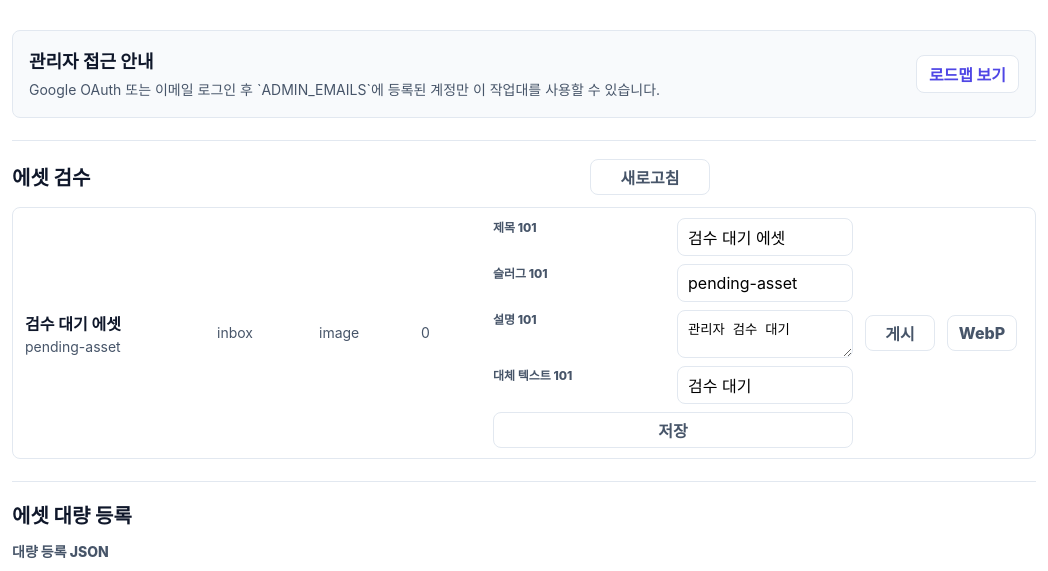
Test case: AdminDashboard › edits inbox asset metadata before publishing
Replace the text in the field labelled "제목 101" with "미니멀 대시보드 레퍼런스" at (765, 237), box left=677, top=218, right=853, bottom=256
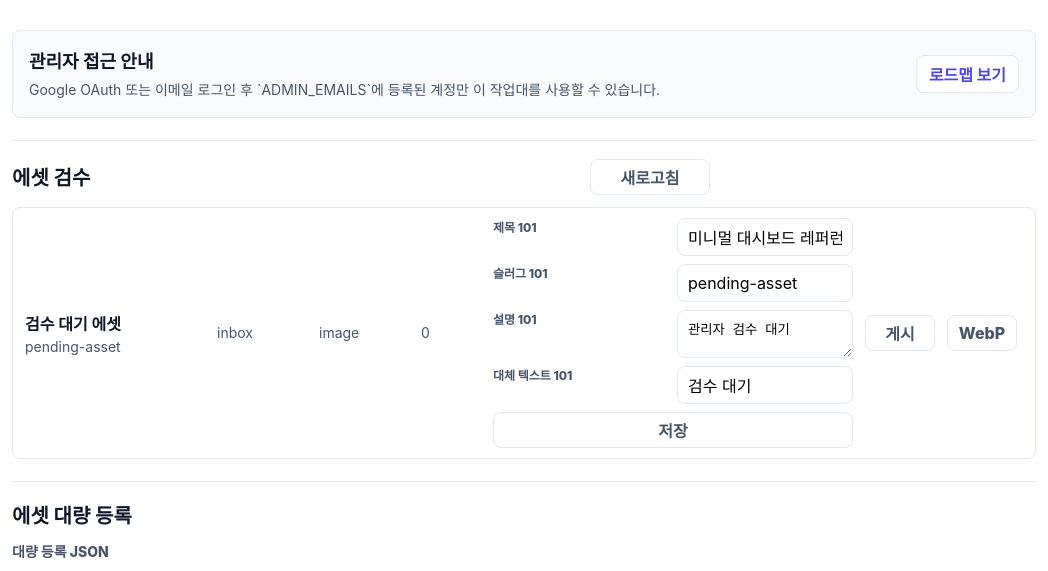
Replace the text in the field labelled "슬러그 101" with "minimal-dashboard-reference" at (765, 283), box left=677, top=264, right=853, bottom=302
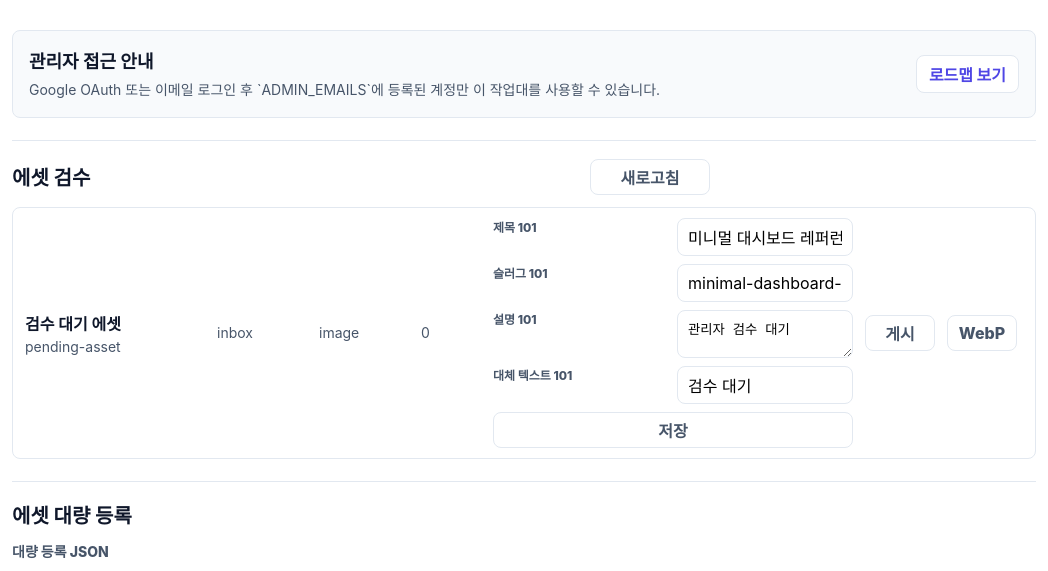
Replace the text in the text box labelled "설명 101" with "SaaS 관리자 화면에 쓰기 좋은 이미지" at (765, 334), box left=677, top=310, right=853, bottom=358
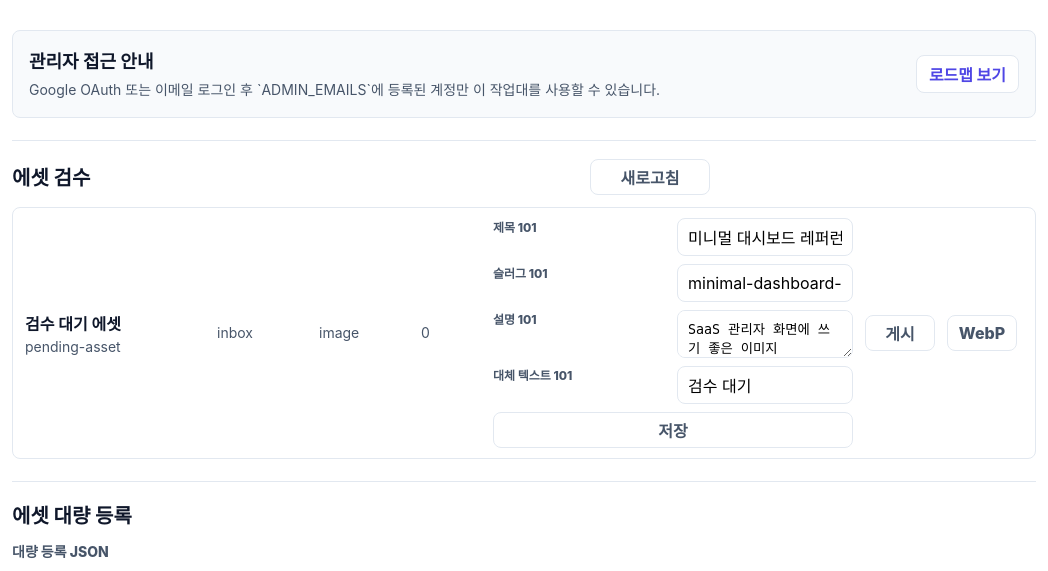
Replace the text in the field labelled "대체 텍스트 101" with "밝은 배경의 미니멀 대시보드 이미지" at (765, 385), box left=677, top=366, right=853, bottom=404
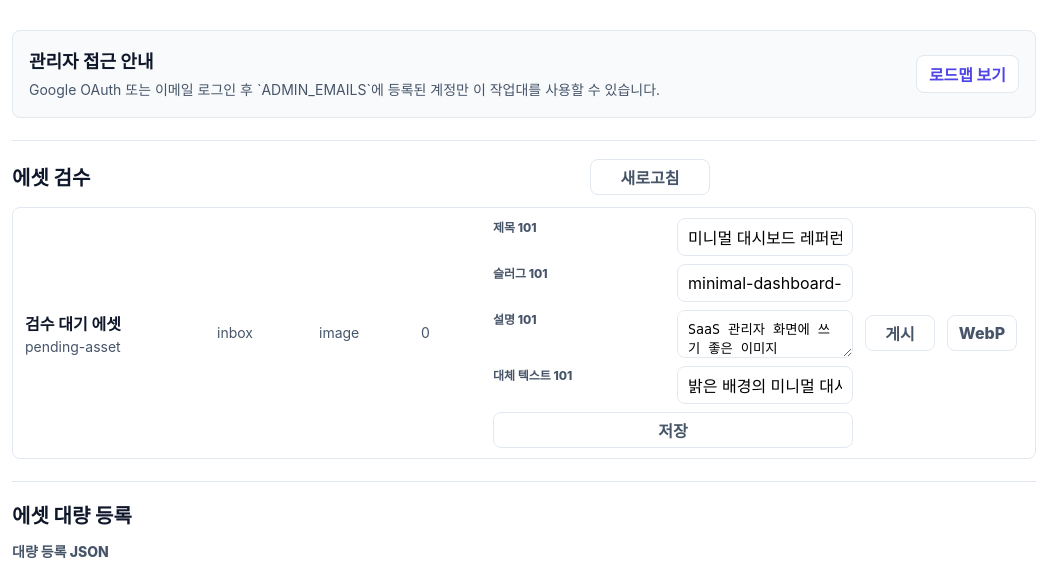
Click the button with aria-label "메타데이터 저장 101" at (673, 430), box left=493, top=412, right=853, bottom=448
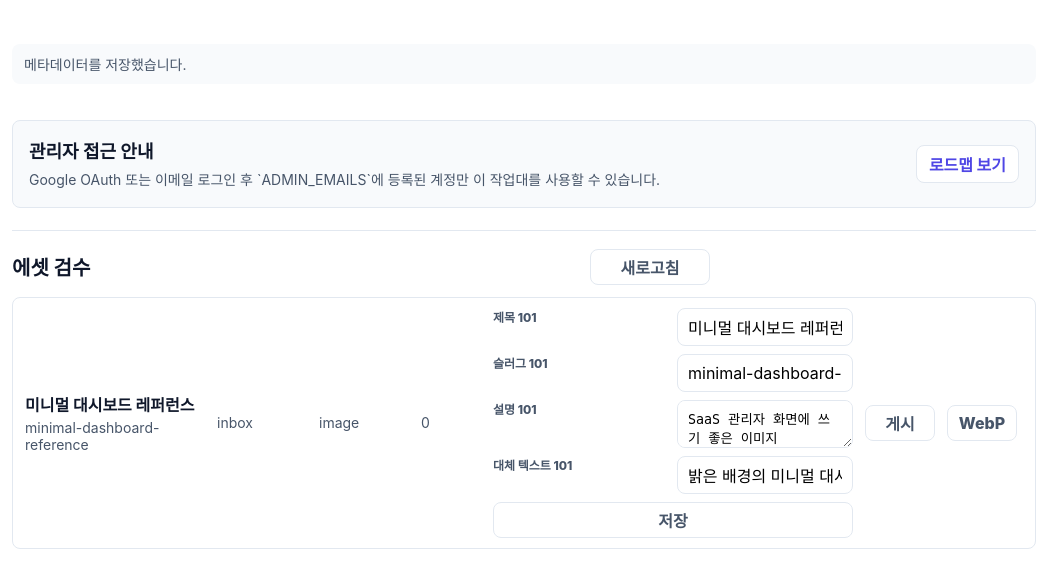
Expected: the text "메타데이터를 저장했습니다." is shown, left=12, top=44, right=1036, bottom=84
